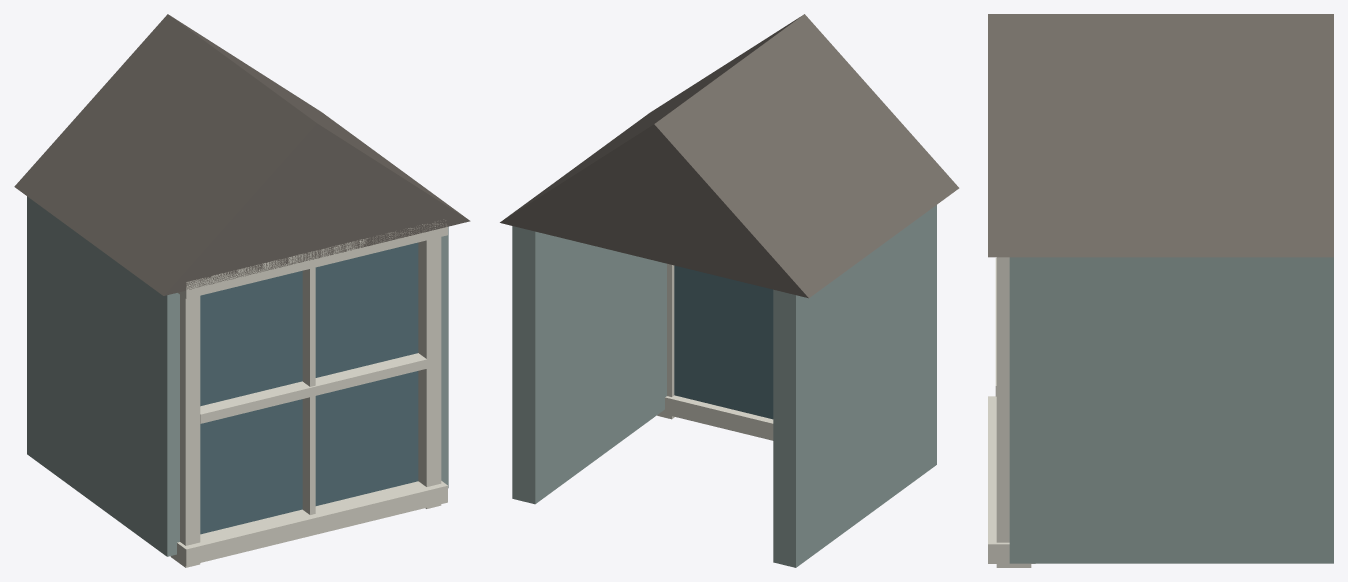
3 renders of one model, left to right at view 1: azimuth 30°, elevation 25°; view 2: azimuth 150°, elevation 25°; view 3: azimuth 270°, elevation 25°, orthographic. The views are drawn at different scales.
Parts seen in each view (by area): view 1: QH-A0116_V02_geometry; view 2: QH-A0116_V02_geometry; view 3: QH-A0116_V02_geometry.
Boxes of the visible parts, x1,y1,x2,y2 form: QH-A0116_V02_geometry: [14, 14, 470, 567]; QH-A0116_V02_geometry: [500, 14, 959, 567]; QH-A0116_V02_geometry: [988, 14, 1333, 567].
Size of the model in its own units: 1.9 by 2.46 by 1.6.
